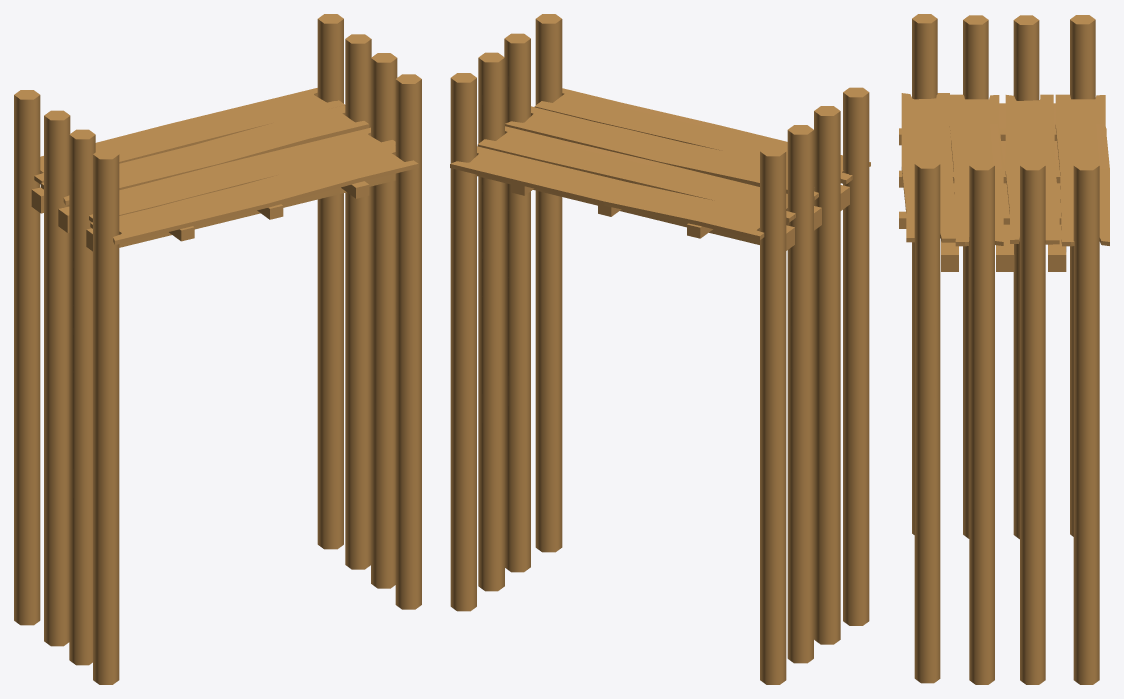
File: Dock_Closed.fbx
3 views of the same model, side by side, from view 1: azimuth 30°, elevation 25°; view 2: azimuth 150°, elevation 25°; view 3: azimuth 270°, elevation 25° (orthographic). The views are drawn at different scales.
Visible parts, largest first — view 1: Wooden Dock Piece; view 2: Wooden Dock Piece; view 3: Wooden Dock Piece.
Boxes of the visible parts, x1,y1,x2,y2 form: Wooden Dock Piece: (14, 14, 421, 684); Wooden Dock Piece: (450, 14, 870, 684); Wooden Dock Piece: (899, 14, 1109, 684).
Bounding box in the file's own units: 344 × 529 × 196.
